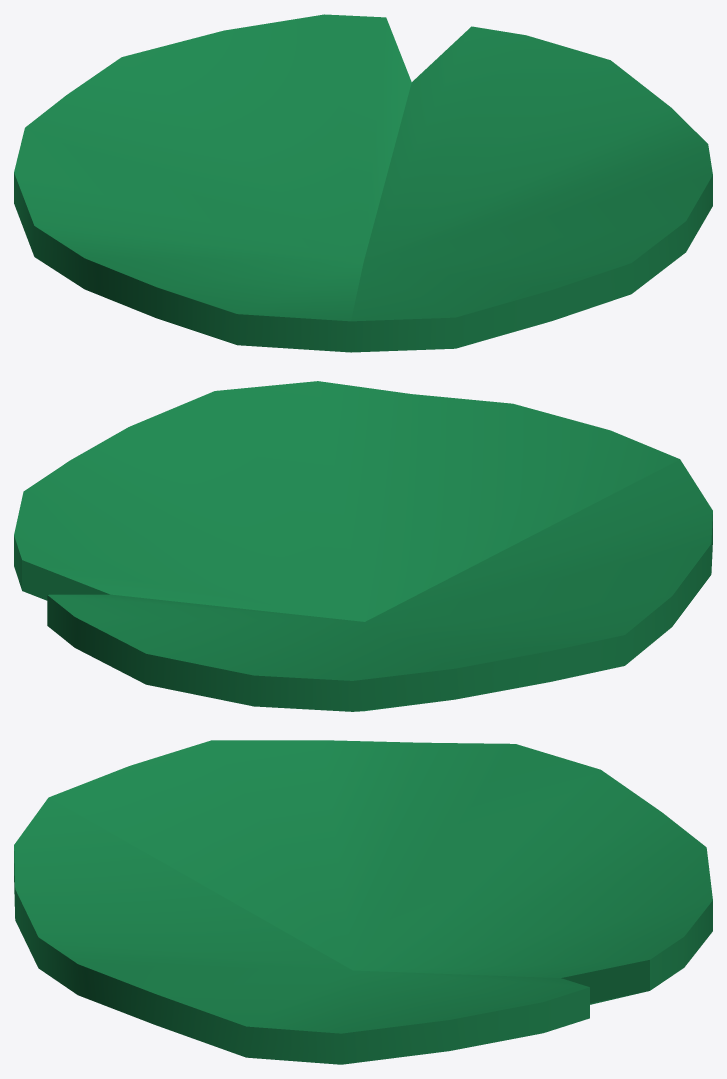
File: plant_mushroom_leaf_A_chip_thick.fbx
3 views of the same model, one above another, from view 1: azimuth 30°, elevation 25°; view 2: azimuth 150°, elevation 25°; view 3: azimuth 270°, elevation 25° (orthographic).
Parts seen in each view (by area): view 1: plant_mushroom_leaf_A_chip_thick; view 2: plant_mushroom_leaf_A_chip_thick; view 3: plant_mushroom_leaf_A_chip_thick.
Part boxes in pixels (x1,y1,x2,y2): plant_mushroom_leaf_A_chip_thick: (14,14,712,352); plant_mushroom_leaf_A_chip_thick: (14,381,712,711); plant_mushroom_leaf_A_chip_thick: (14,740,712,1064).
Bounding box in the file's own units: 29.92 × 9.02 × 30.29.
